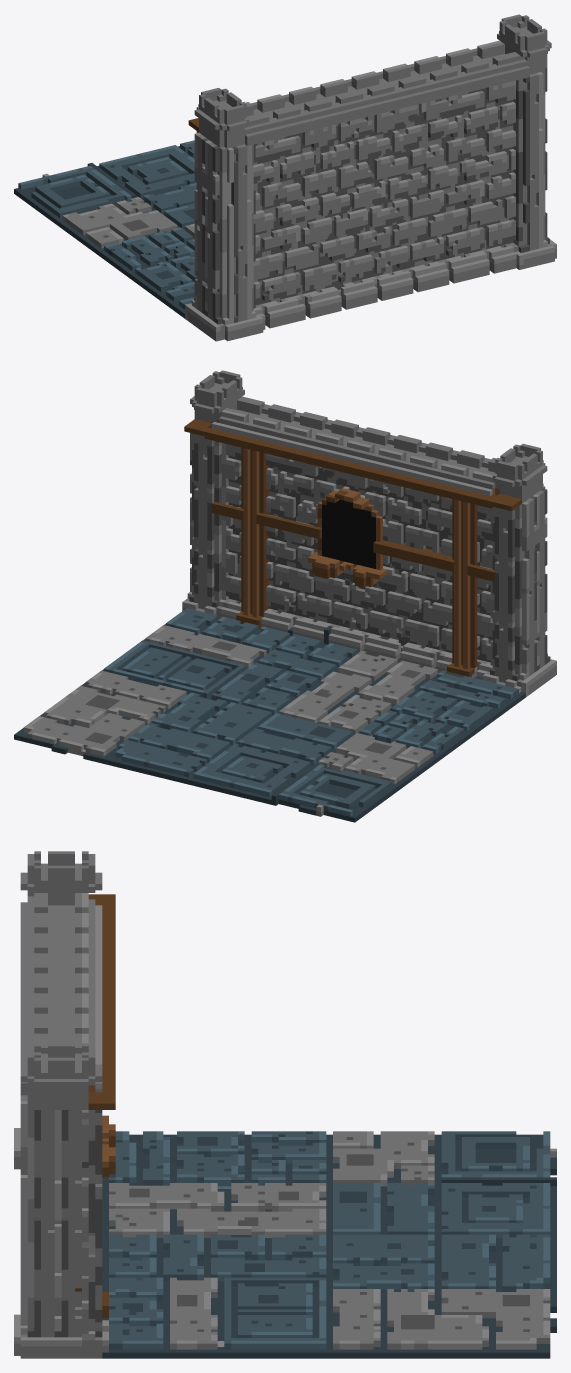
Rendered from wall_Maderas_debajo.obj.
The picture shows the model from 3 angles, top to bottom: view 1: azimuth 30°, elevation 25°; view 2: azimuth 150°, elevation 25°; view 3: azimuth 270°, elevation 25°; orthographic projection. The views are drawn at different scales.
Bounding box in the file's own units: 76 × 48 × 80.
Materials: 1 (1 with a texture image).
